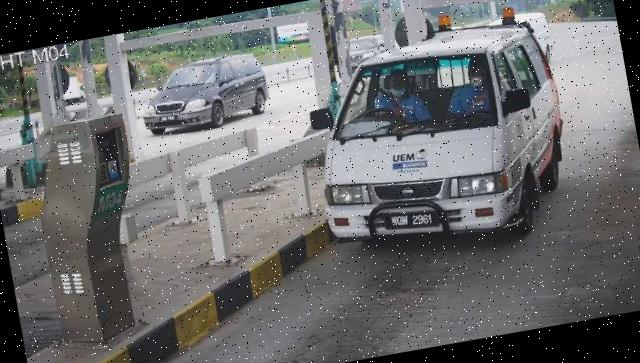License_Plate: (383, 204, 442, 238)
van: (299, 18, 581, 269)
